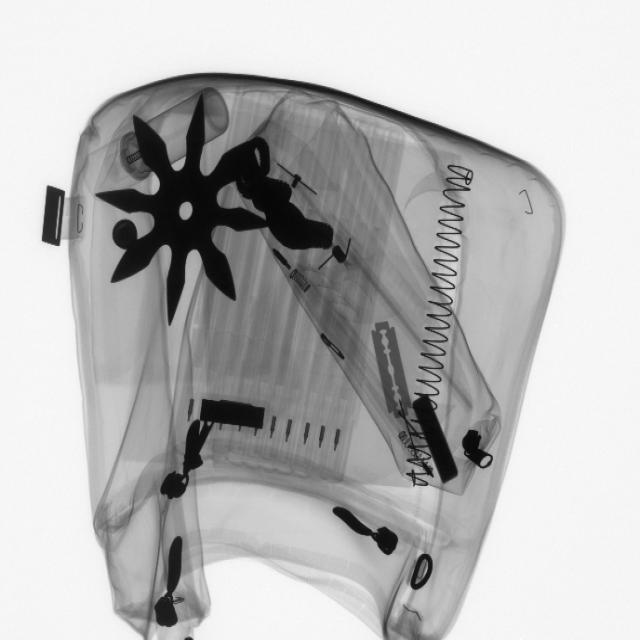BLADE: (370, 318, 416, 427)
SHURIKEN: (95, 94, 276, 328)
